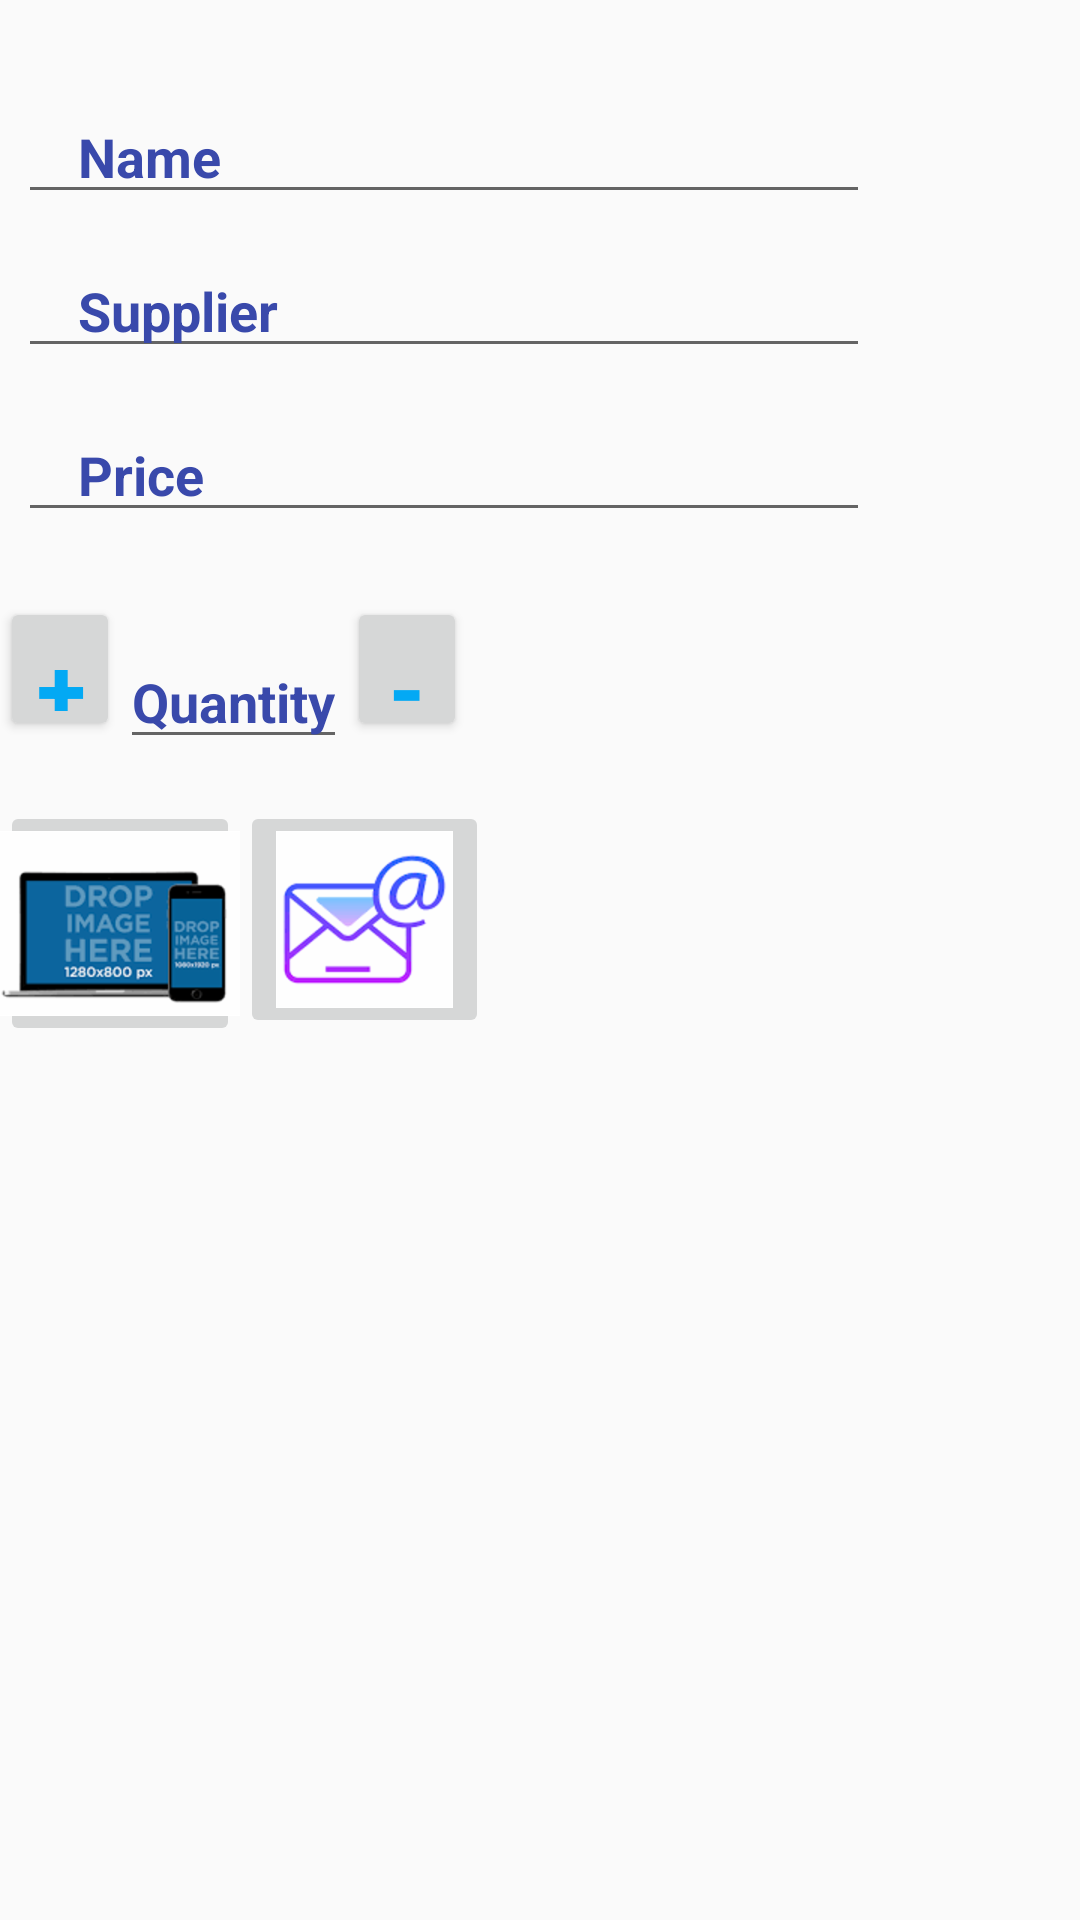

Icons on this 1080 × 1920 Android screen, each with its box as (x1, y1, x2, y2):
email: (252, 819, 477, 1020)
